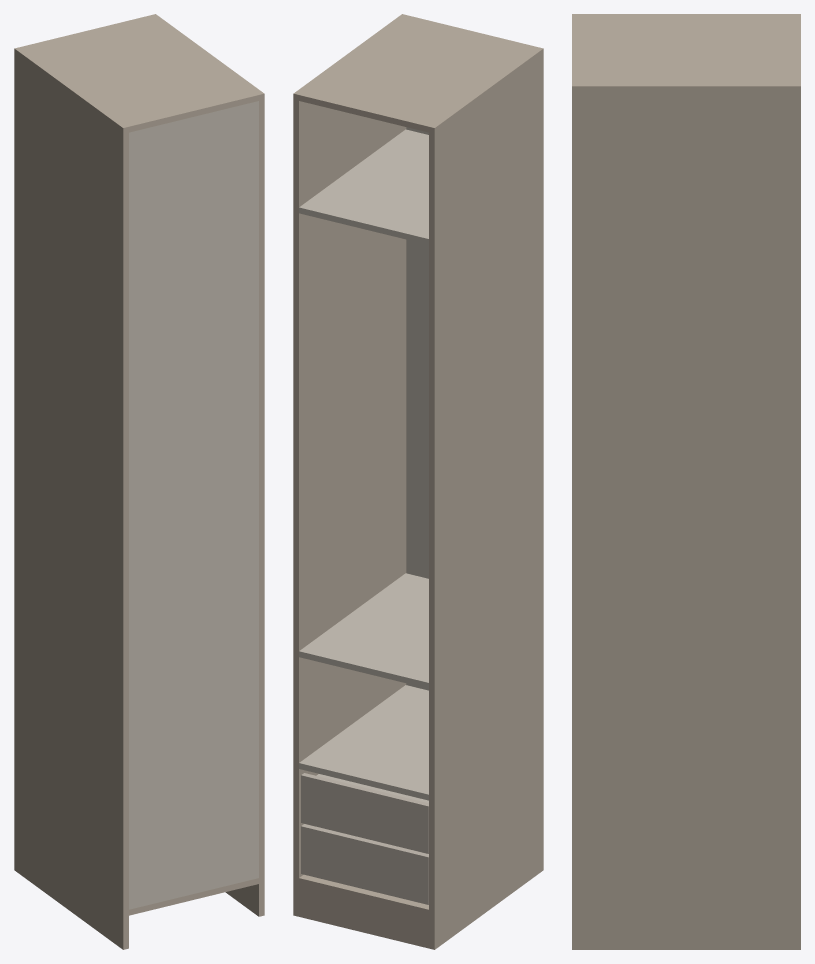
The picture shows the model from 3 angles, left to right: view 1: azimuth 30°, elevation 25°; view 2: azimuth 150°, elevation 25°; view 3: azimuth 270°, elevation 25°; orthographic projection. The views are drawn at different scales.
Parts seen in each view (by area): view 1: 004_ARKALIK, 000_GOVDE_SOL, 002_GOVDE_UST, 001_GOVDE_SAG, 003_GOVDE_ALT; view 2: 000_GOVDE_SOL, 001_GOVDE_SAG, 002_GOVDE_UST, 007_RAF_2, 008_RAF_3, 006_RAF_1, 004_ARKALIK, 009_CEKMECE_ON_1, 011_CEKMECE_ON_2, 005_BAZA, 003_GOVDE_ALT; view 3: 001_GOVDE_SAG, 002_GOVDE_UST, 000_GOVDE_SOL.
Boxes of the visible parts, left/top/right/bottom form: 004_ARKALIK: left=129, top=101, right=258, bottom=909; 000_GOVDE_SOL: left=14, top=47, right=128, bottom=949; 002_GOVDE_UST: left=20, top=15, right=258, bottom=132; 001_GOVDE_SAG: left=150, top=14, right=264, bottom=916; 003_GOVDE_ALT: left=129, top=878, right=258, bottom=915; 000_GOVDE_SOL: left=429, top=47, right=543, bottom=949; 001_GOVDE_SAG: left=293, top=14, right=407, bottom=916; 002_GOVDE_UST: left=299, top=15, right=537, bottom=132; 007_RAF_2: left=299, top=573, right=428, bottom=688; 008_RAF_3: left=299, top=129, right=428, bottom=244; 006_RAF_1: left=299, top=685, right=428, bottom=800; 004_ARKALIK: left=406, top=127, right=428, bottom=690; 009_CEKMECE_ON_1: left=301, top=824, right=428, bottom=904; 011_CEKMECE_ON_2: left=301, top=773, right=428, bottom=853; 005_BAZA: left=299, top=884, right=428, bottom=948; 003_GOVDE_ALT: left=299, top=874, right=428, bottom=915; 001_GOVDE_SAG: left=572, top=83, right=800, bottom=949; 002_GOVDE_UST: left=572, top=17, right=800, bottom=83; 000_GOVDE_SOL: left=572, top=14, right=800, bottom=16.
Bounding box in the file's own units: 0.45 × 2.5 × 0.6.
